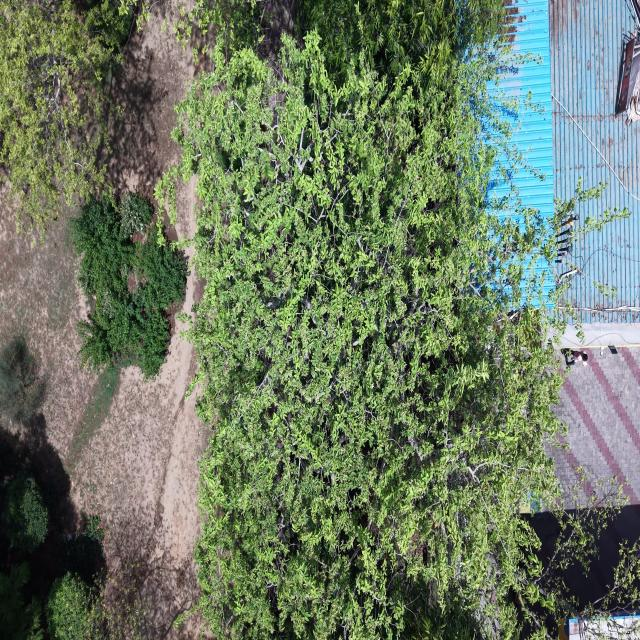DRY_AREA: (0, 204, 208, 638), (0, 206, 208, 637), (0, 208, 206, 637), (72, 322, 208, 637), (74, 321, 208, 635), (83, 322, 207, 634), (0, 187, 97, 453), (548, 347, 639, 601), (108, 0, 210, 195), (552, 347, 639, 504)
ROOFTOP_BUILDING: (488, 0, 639, 567), (488, 0, 639, 503), (488, 0, 639, 343), (549, 0, 639, 323), (488, 0, 553, 218), (560, 614, 639, 639)
VEGETATION_TREE: (156, 0, 639, 639), (157, 3, 592, 639), (177, 33, 560, 638), (0, 0, 152, 239), (0, 423, 148, 639), (0, 0, 132, 234), (175, 0, 505, 81), (72, 194, 187, 378), (528, 468, 639, 639), (0, 517, 148, 639), (0, 517, 147, 639), (298, 0, 504, 86), (44, 562, 152, 639), (0, 471, 48, 639), (174, 0, 287, 57), (98, 561, 157, 639), (46, 573, 104, 639), (0, 337, 44, 423), (2, 477, 48, 552), (0, 563, 43, 639), (119, 192, 153, 237)
